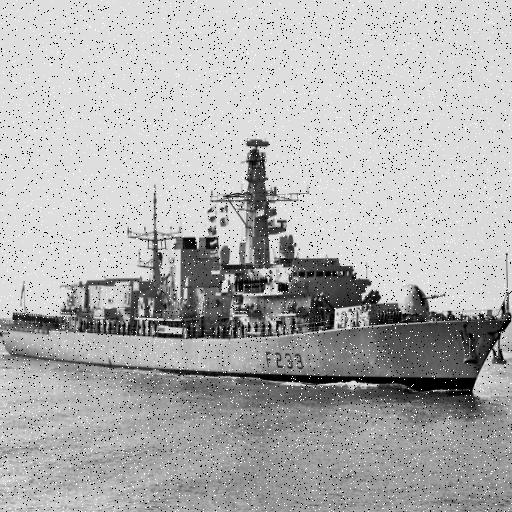Fragata: (1, 134, 512, 398)
